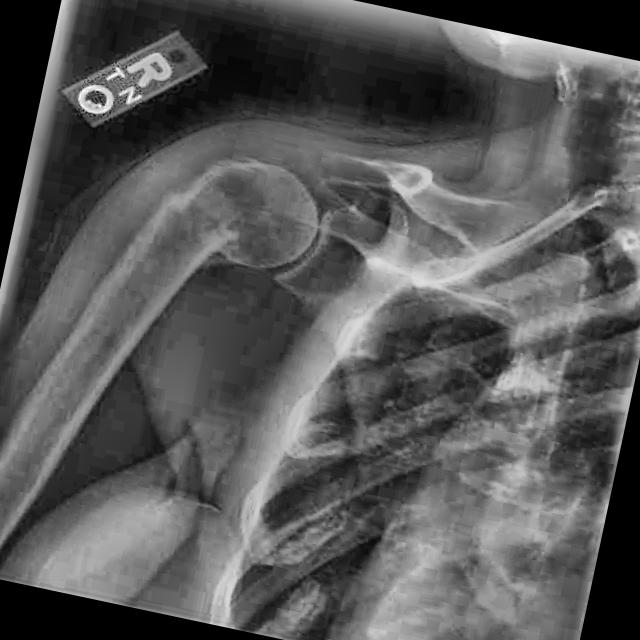shoulder fracture: (123, 162, 271, 288)
